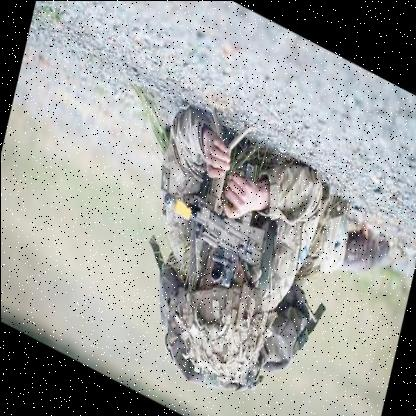rifle: (151, 147, 277, 288)
